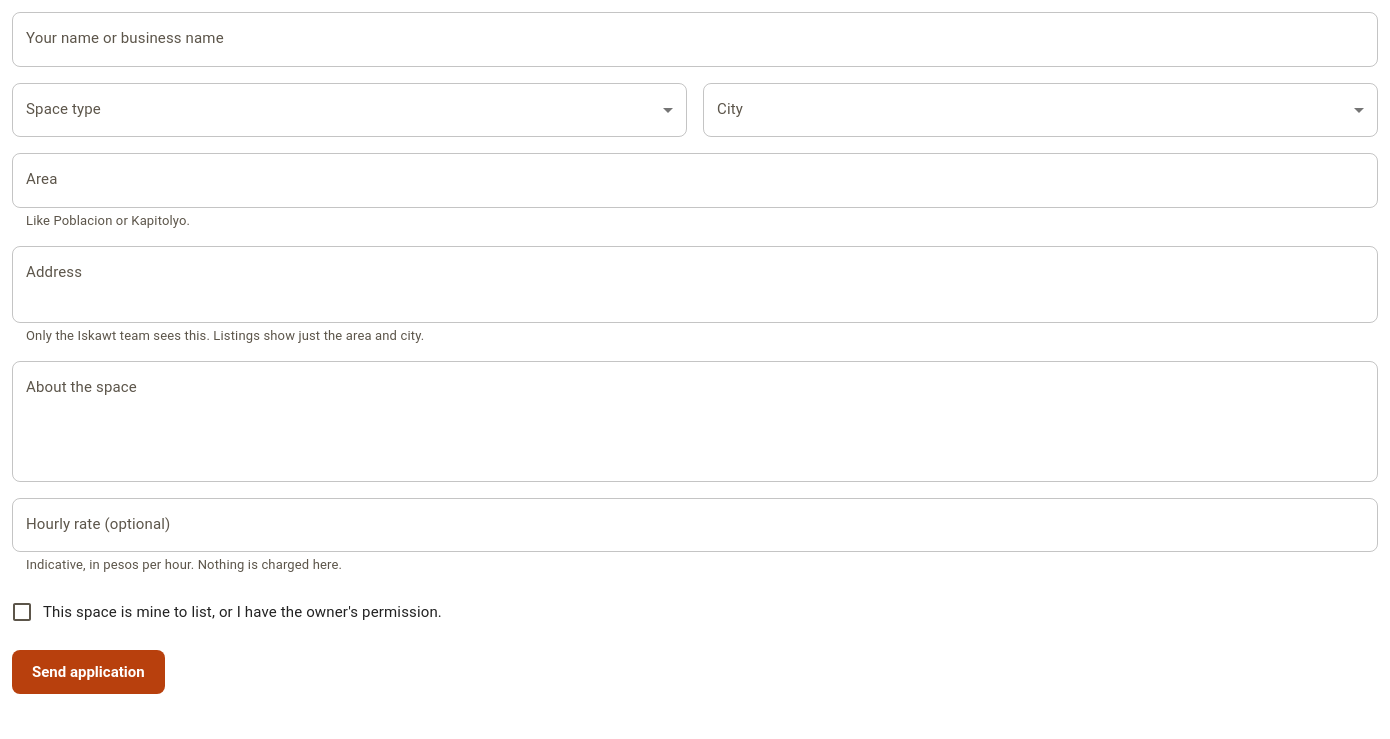
Test: validates on the client with the shared rules and doesn't post
The image size is (1390, 739).
Click the button "Send application": (88, 672) [12, 650, 165, 694]
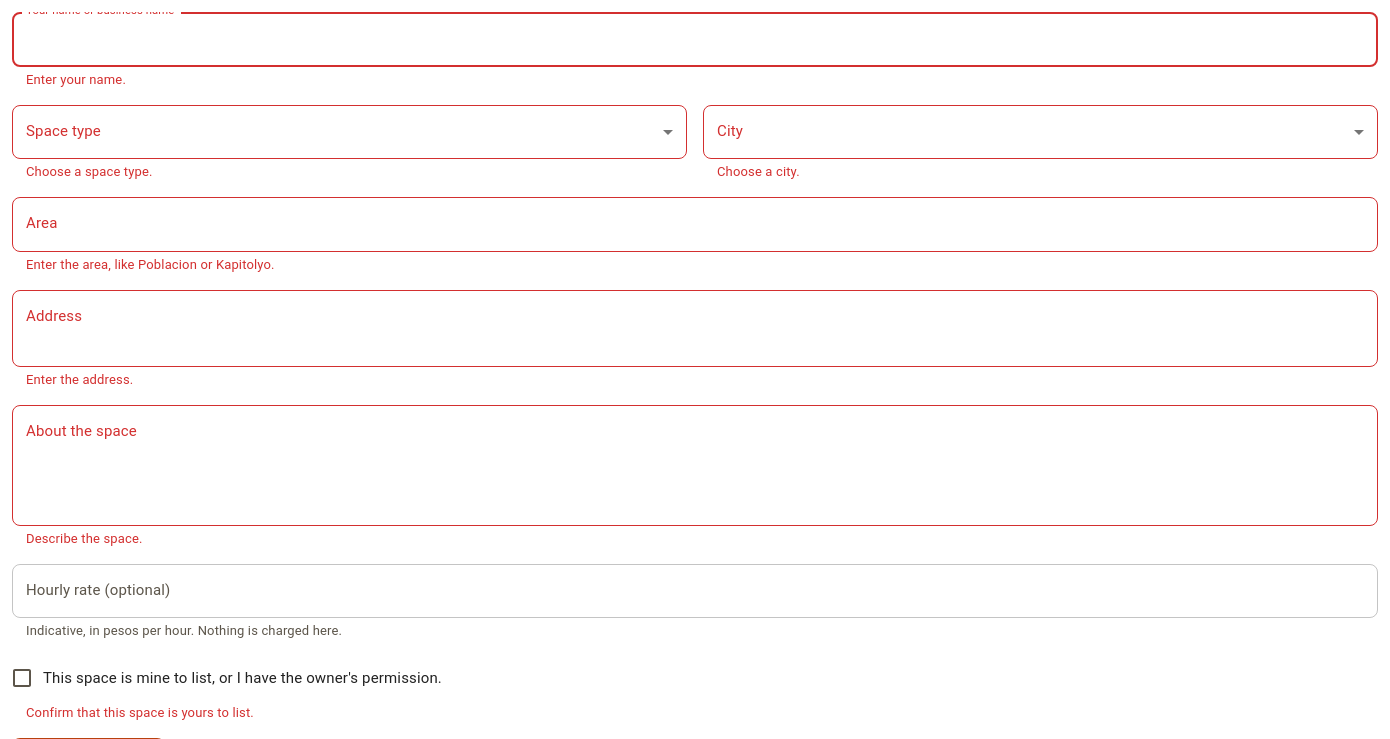
Now the text "Enter your name." is shown, box [26, 72, 126, 87]
Now the text "Choose a city." is shown, box [717, 164, 800, 179]
Now the text "Confirm that this space is yours to list." is shown, box [26, 705, 254, 720]
